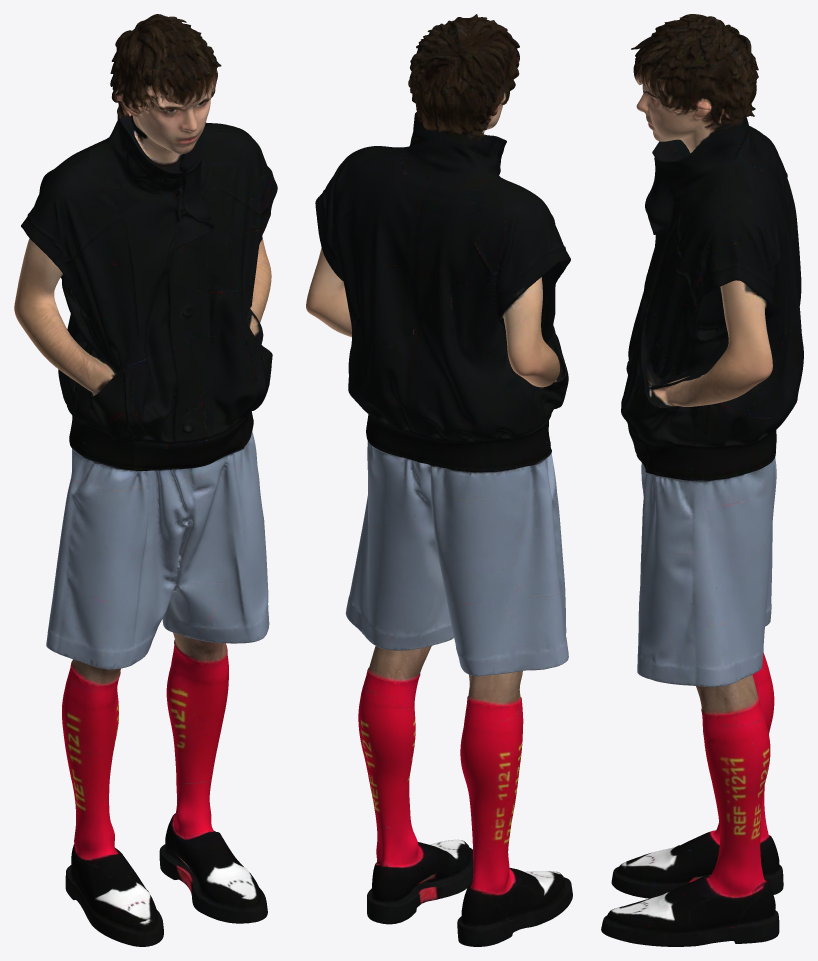
File: look3.glb
The picture shows the model from 3 angles, left to right: view 1: azimuth 30°, elevation 25°; view 2: azimuth 150°, elevation 25°; view 3: azimuth 270°, elevation 25°; orthographic projection.
Bounding box in the file's own units: 0.5559 × 1.9 × 0.3901.
1 material, 1 textured.
